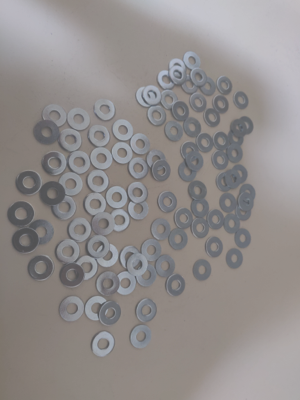circle: (58, 294, 86, 324), (27, 255, 55, 283), (13, 227, 40, 255), (28, 219, 55, 246), (60, 262, 86, 289), (8, 201, 35, 227), (16, 170, 42, 196), (85, 295, 110, 322), (40, 181, 66, 206), (33, 121, 59, 146), (56, 239, 81, 264), (74, 255, 99, 280), (92, 332, 116, 358), (98, 301, 122, 327), (41, 152, 68, 175), (58, 128, 82, 153), (68, 217, 92, 242), (53, 194, 76, 220), (42, 105, 68, 128), (59, 172, 83, 196), (135, 298, 158, 323), (91, 213, 116, 236), (130, 325, 152, 351), (88, 124, 111, 148), (87, 169, 110, 193), (126, 253, 149, 277), (119, 246, 142, 270), (96, 244, 119, 268), (66, 152, 91, 174), (84, 191, 106, 216), (67, 108, 90, 131), (90, 147, 113, 170), (135, 264, 158, 287), (108, 209, 131, 232), (87, 236, 110, 259), (115, 272, 137, 296), (140, 238, 162, 262), (109, 143, 134, 164), (97, 273, 120, 295), (127, 182, 149, 205), (128, 158, 151, 180), (129, 134, 152, 156), (94, 99, 116, 121), (107, 186, 128, 209), (127, 200, 150, 221), (113, 120, 135, 141), (155, 255, 176, 277), (174, 208, 194, 231), (193, 260, 213, 283), (166, 274, 186, 296), (147, 150, 167, 172), (159, 191, 178, 214), (206, 236, 225, 259), (169, 229, 189, 250), (135, 88, 156, 108), (157, 70, 178, 90), (226, 248, 245, 270), (185, 150, 204, 172), (215, 171, 234, 193), (153, 160, 171, 183), (178, 162, 198, 182), (148, 105, 167, 126), (143, 86, 162, 107), (165, 121, 183, 143), (188, 181, 208, 200), (153, 219, 171, 240), (223, 213, 241, 234), (169, 65, 187, 86), (219, 193, 237, 214), (181, 73, 198, 95), (168, 59, 187, 78), (161, 90, 179, 110), (184, 118, 202, 138), (211, 150, 229, 170), (199, 76, 217, 96), (204, 108, 222, 128), (235, 228, 252, 249), (235, 201, 252, 222), (184, 51, 202, 70), (226, 144, 244, 163), (231, 165, 249, 184), (208, 209, 225, 229), (192, 198, 209, 218), (197, 133, 214, 153), (213, 95, 230, 115), (225, 170, 242, 190), (237, 192, 254, 212), (190, 94, 207, 113), (228, 129, 245, 148), (240, 184, 257, 203), (231, 118, 247, 138), (213, 132, 230, 150), (173, 102, 189, 121), (191, 68, 207, 86), (238, 117, 254, 135), (234, 91, 249, 110), (218, 77, 233, 95)
